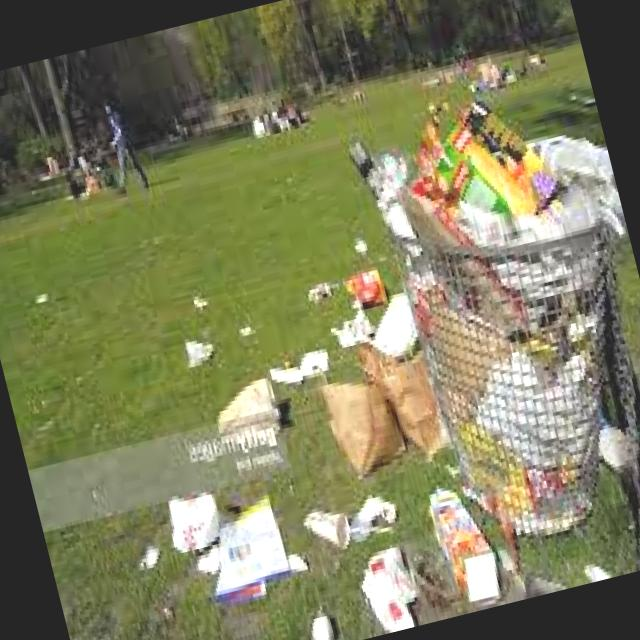garbage: (75, 38, 640, 640)
